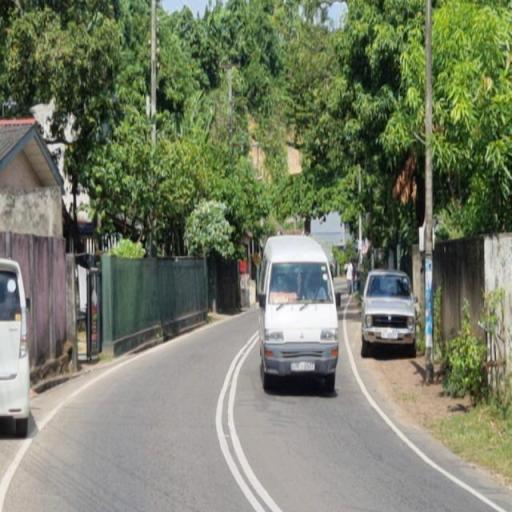double_white_line: (214, 326, 278, 512)
